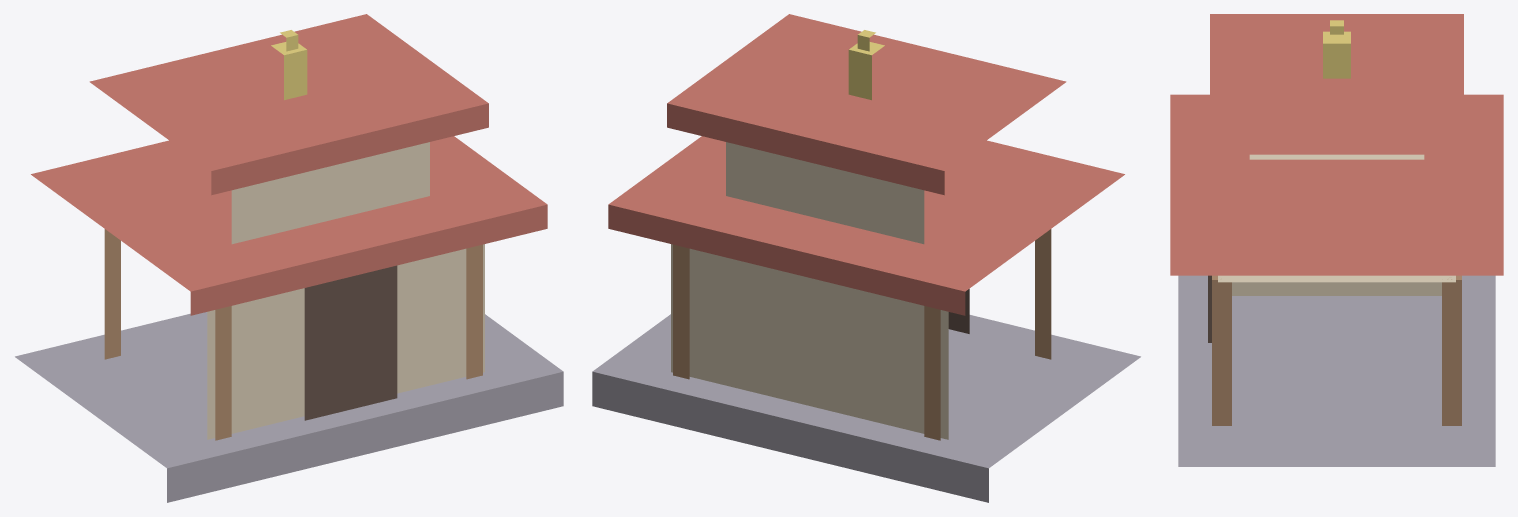
File: temple.glb
3 renders of one model, left to right at view 1: azimuth 30°, elevation 25°; view 2: azimuth 150°, elevation 25°; view 3: azimuth 270°, elevation 25°, orthographic. The views are drawn at different scales.
Size of the model in its own units: 6 by 5.28 by 4.2.
